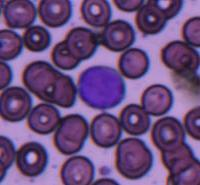L: (77, 64, 125, 109)
